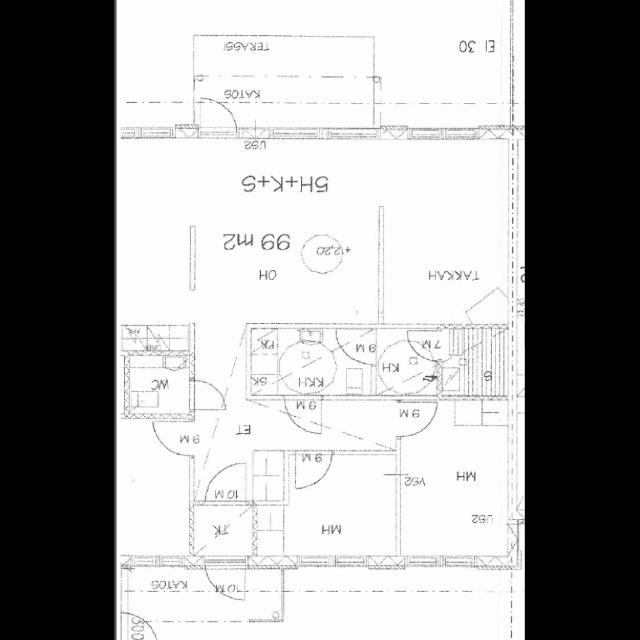door: (205, 556, 245, 607), (205, 462, 246, 505), (200, 91, 236, 139), (295, 450, 332, 490), (285, 395, 321, 434), (153, 422, 195, 455), (336, 331, 376, 364), (396, 403, 436, 436), (403, 331, 442, 362), (188, 381, 226, 409), (93, 413, 120, 444), (121, 613, 153, 637)
